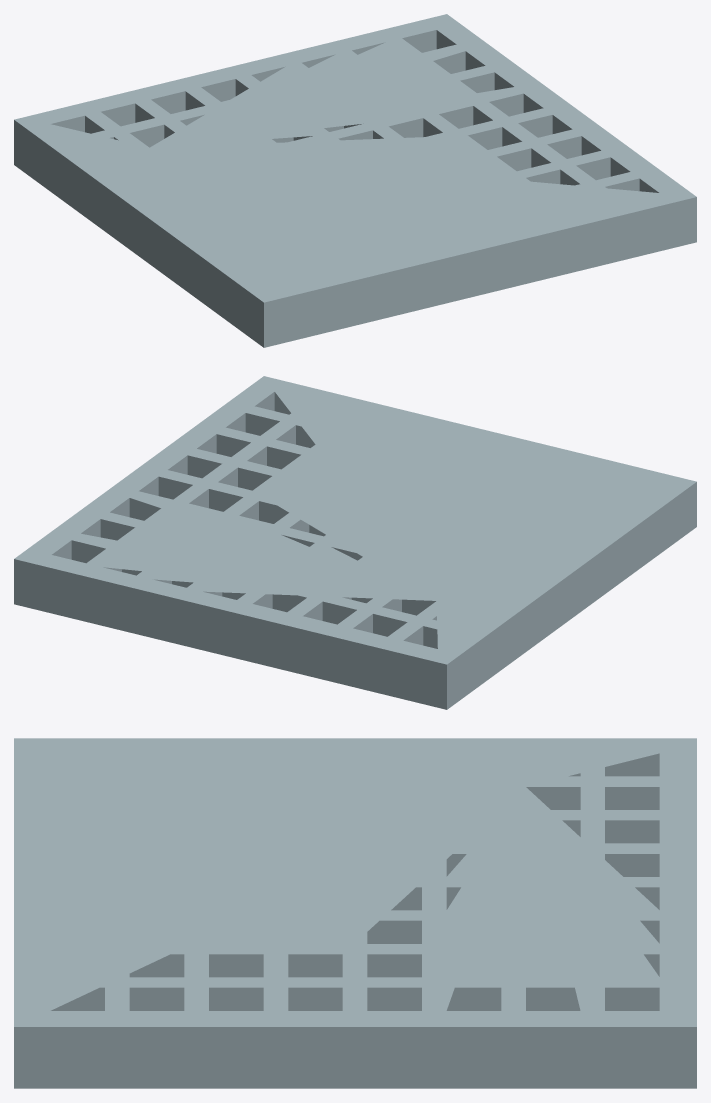
The model's file is Floor_Tile.fbx.
3 renders of one model, top to bottom at view 1: azimuth 30°, elevation 25°; view 2: azimuth 150°, elevation 25°; view 3: azimuth 270°, elevation 25°, orthographic. The views are drawn at different scales.
Visible parts, largest first — view 1: Floor_Tile; view 2: Floor_Tile; view 3: Floor_Tile.
Part boxes in pixels (<box>): Floor_Tile: <box>14,14,696,347</box>; Floor_Tile: <box>14,376,696,709</box>; Floor_Tile: <box>14,738,696,1088</box>.
Size of the model in its own units: 100 by 10 by 100.
